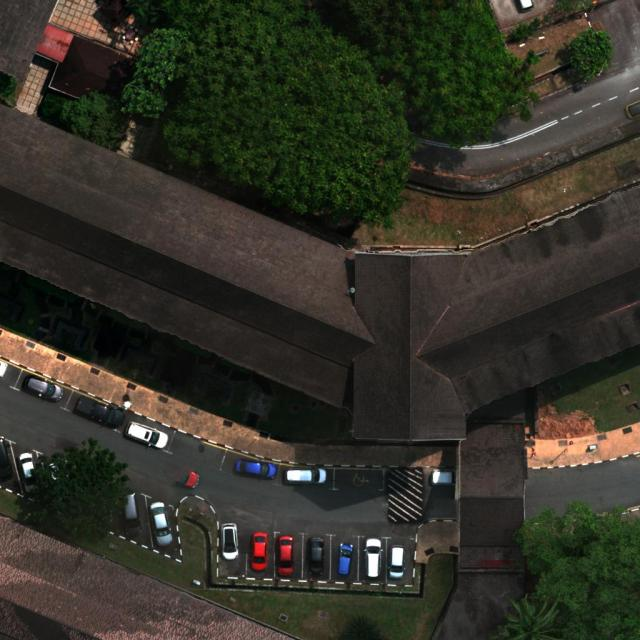Tree: (124, 0, 414, 229), (324, 0, 544, 150), (512, 499, 640, 640), (27, 436, 132, 536), (60, 90, 128, 148), (505, 592, 564, 640), (565, 26, 614, 82), (338, 614, 390, 640)
